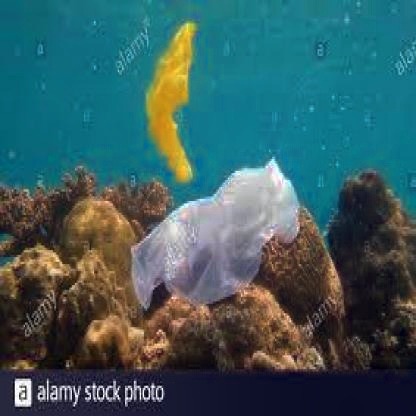pbag: (130, 154, 302, 316), (144, 18, 200, 184)
